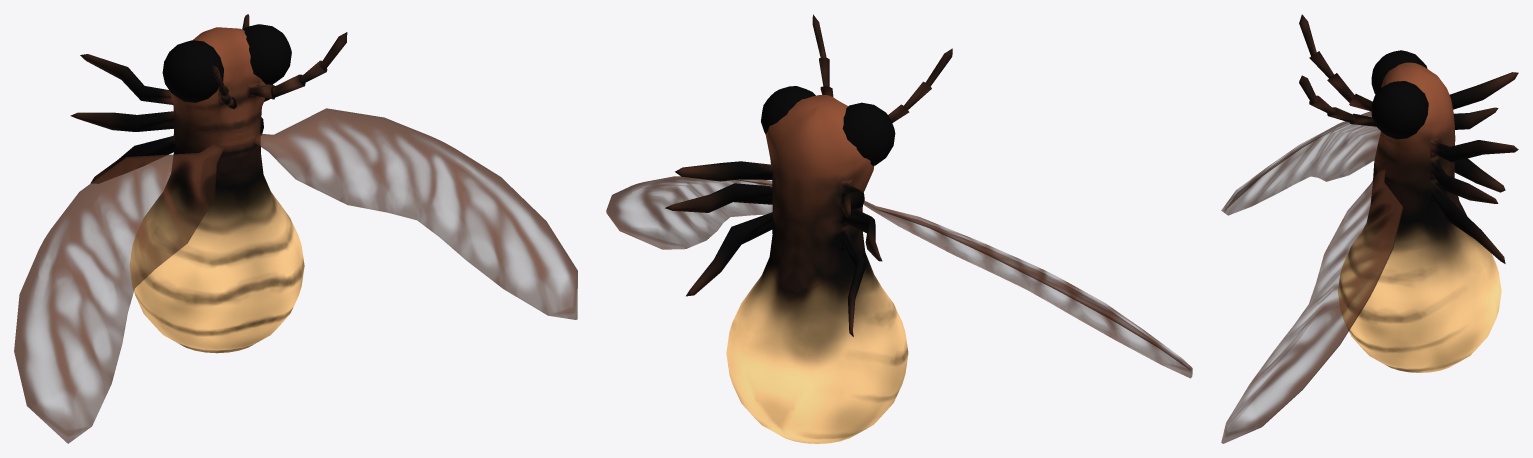
The picture shows the model from 3 angles, left to right: view 1: azimuth 30°, elevation 25°; view 2: azimuth 150°, elevation 25°; view 3: azimuth 270°, elevation 25°; orthographic projection. The views are drawn at different scales.
Parts seen in each view (by area): view 1: Object_52; view 2: Object_52; view 3: Object_52.
Boxes of the visible parts, bbox=[...] form: Object_52: bbox=[14, 14, 577, 443]; Object_52: bbox=[606, 14, 1192, 443]; Object_52: bbox=[1221, 14, 1518, 443].
Size of the model in its own units: 7.27 by 4.32 by 3.63.
Materials: 2 (2 with a texture image).
